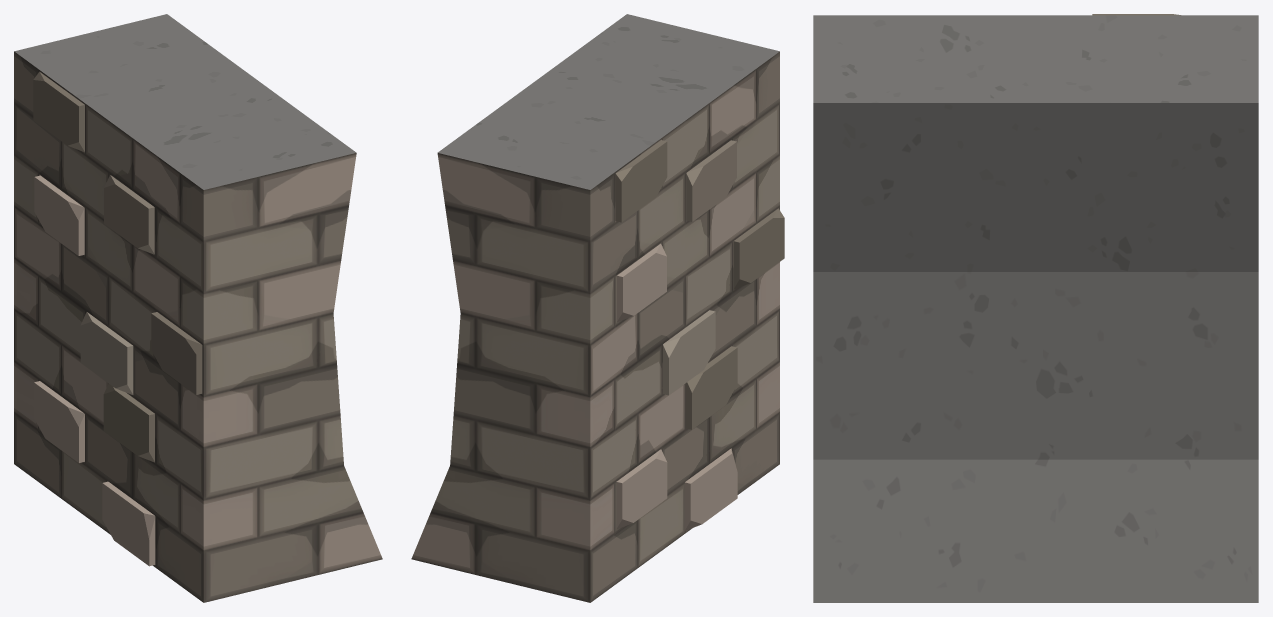
Rendered from SM_Bld_Tunnel_Curved_Wall_01.fbx.
The picture shows the model from 3 angles, left to right: view 1: azimuth 30°, elevation 25°; view 2: azimuth 150°, elevation 25°; view 3: azimuth 270°, elevation 25°; orthographic projection. The views are drawn at different scales.
Parts seen in each view (by area): view 1: SM_Bld_Tunnel_Curved_Wall_01; view 2: SM_Bld_Tunnel_Curved_Wall_01; view 3: SM_Bld_Tunnel_Curved_Wall_01.
Boxes of the visible parts, bbox=[...] form: SM_Bld_Tunnel_Curved_Wall_01: bbox=[14, 14, 382, 602]; SM_Bld_Tunnel_Curved_Wall_01: bbox=[411, 14, 784, 602]; SM_Bld_Tunnel_Curved_Wall_01: bbox=[813, 14, 1258, 602].
Size of the model in its own units: 141 by 300 by 250.
